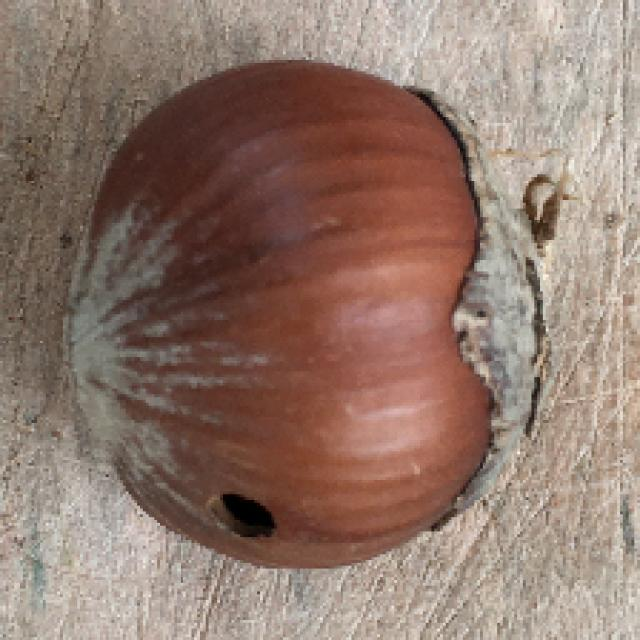damagedHazelnut: (61, 51, 565, 573)
